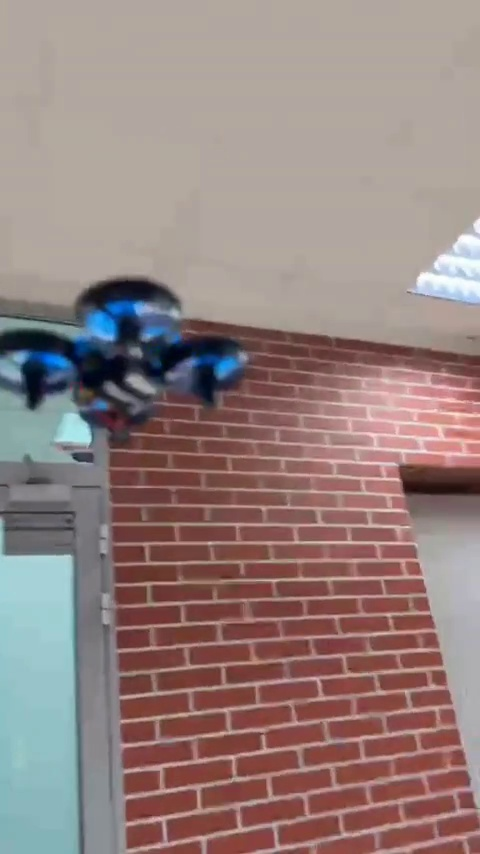drone: (5, 280, 239, 443)
